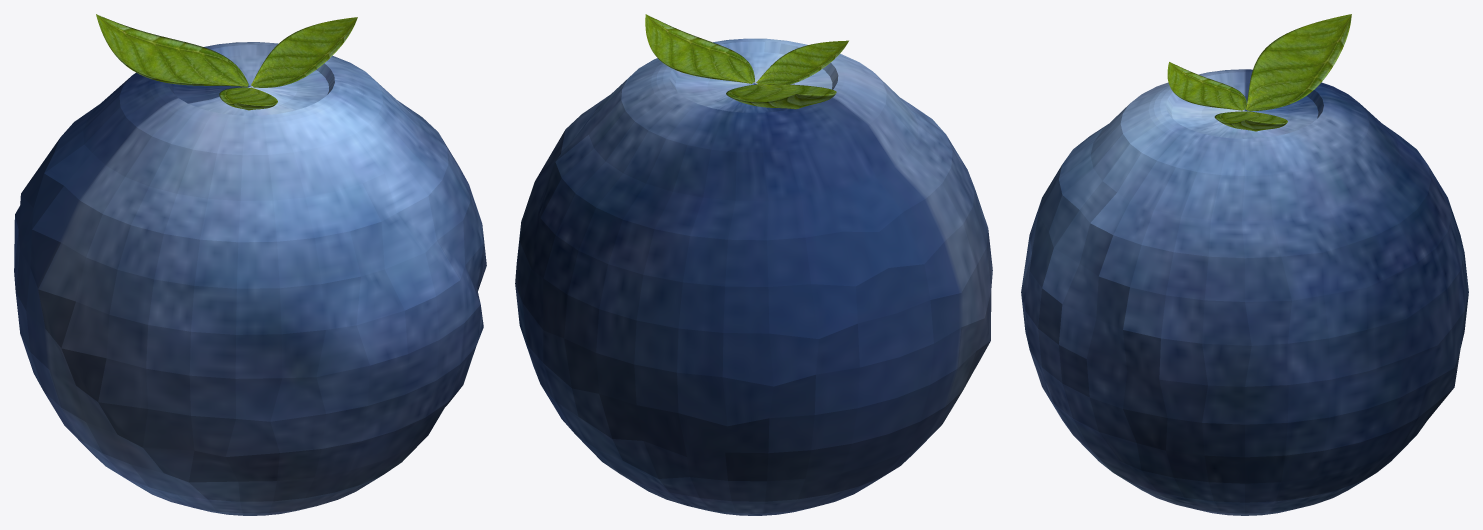
File: Bluederry.fbx
3 views of the same model, side by side, from view 1: azimuth 30°, elevation 25°; view 2: azimuth 150°, elevation 25°; view 3: azimuth 270°, elevation 25° (orthographic). The views are drawn at different scales.
Parts seen in each view (by area): view 1: Body, Sheet.001, Sheet, Sheet.002; view 2: Body, Sheet, Sheet.002, Sheet.001; view 3: Body, Sheet.001, Sheet.002, Sheet.
Part boxes in pixels (box(x1,y1,x2,y2)): Body: box(14, 42, 486, 515); Sheet.001: box(96, 14, 248, 86); Sheet: box(251, 17, 357, 87); Sheet.002: box(219, 87, 277, 110); Body: box(515, 38, 992, 515); Sheet: box(645, 14, 754, 83); Sheet.002: box(756, 40, 848, 84); Sheet.001: box(726, 84, 836, 109); Body: box(1021, 69, 1468, 515); Sheet.001: box(1246, 14, 1351, 111); Sheet.002: box(1167, 62, 1246, 110); Sheet: box(1214, 111, 1287, 131).
Bounding box in the file's own units: 0.1009 × 0.1 × 0.1074.
Materials: 2 (2 with a texture image).
